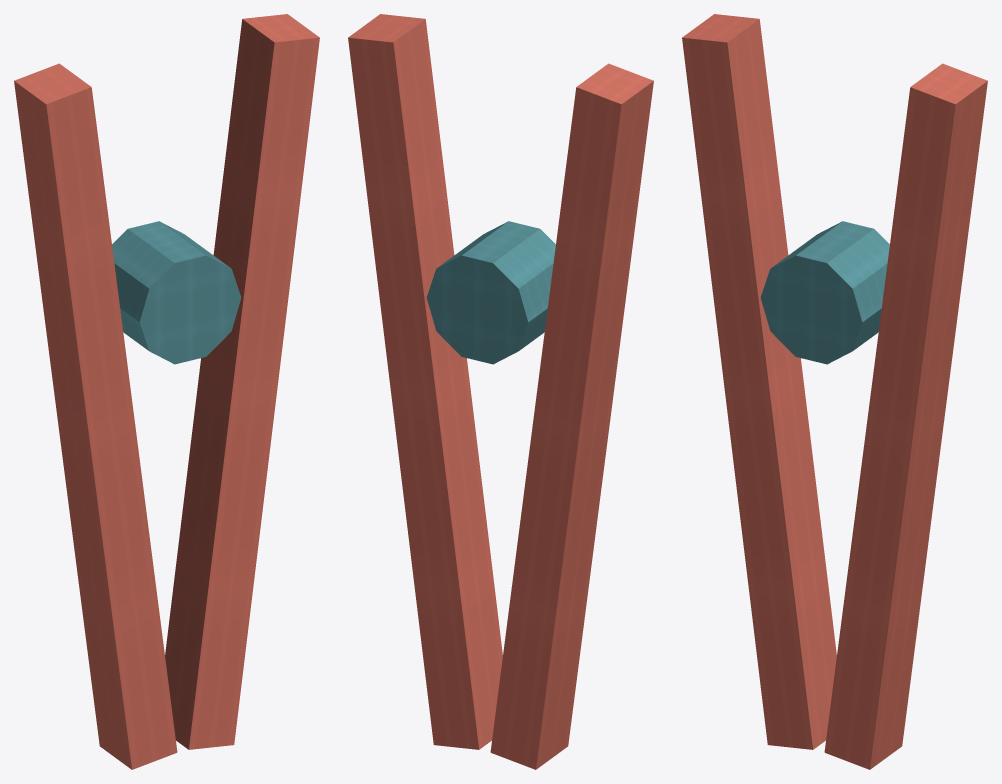
Rendered from atlas100-s080-a05.lod1.glb.
3 views of the same model, side by side, from view 1: azimuth 30°, elevation 25°; view 2: azimuth 150°, elevation 25°; view 3: azimuth 330°, elevation 25° (orthographic).
Parts seen in each view (by area): view 1: atlas100-s080-a05:part-001, atlas100-s080-a05:part-000, atlas100-s080-a05:part-002; view 2: atlas100-s080-a05:part-001, atlas100-s080-a05:part-000, atlas100-s080-a05:part-002; view 3: atlas100-s080-a05:part-000, atlas100-s080-a05:part-001, atlas100-s080-a05:part-002.
Part boxes in pixels (<box>): atlas100-s080-a05:part-001: <box>165,14,319,749</box>; atlas100-s080-a05:part-000: <box>14,63,177,769</box>; atlas100-s080-a05:part-002: <box>112,221,241,364</box>; atlas100-s080-a05:part-001: <box>348,14,502,749</box>; atlas100-s080-a05:part-000: <box>490,63,653,769</box>; atlas100-s080-a05:part-002: <box>426,221,555,364</box>; atlas100-s080-a05:part-000: <box>682,14,836,749</box>; atlas100-s080-a05:part-001: <box>824,63,987,769</box>; atlas100-s080-a05:part-002: <box>760,221,889,364</box>.
Bounding box in the file's own units: 0.2936 × 0.7102 × 0.0874.
Materials: 2 (2 with a texture image).
